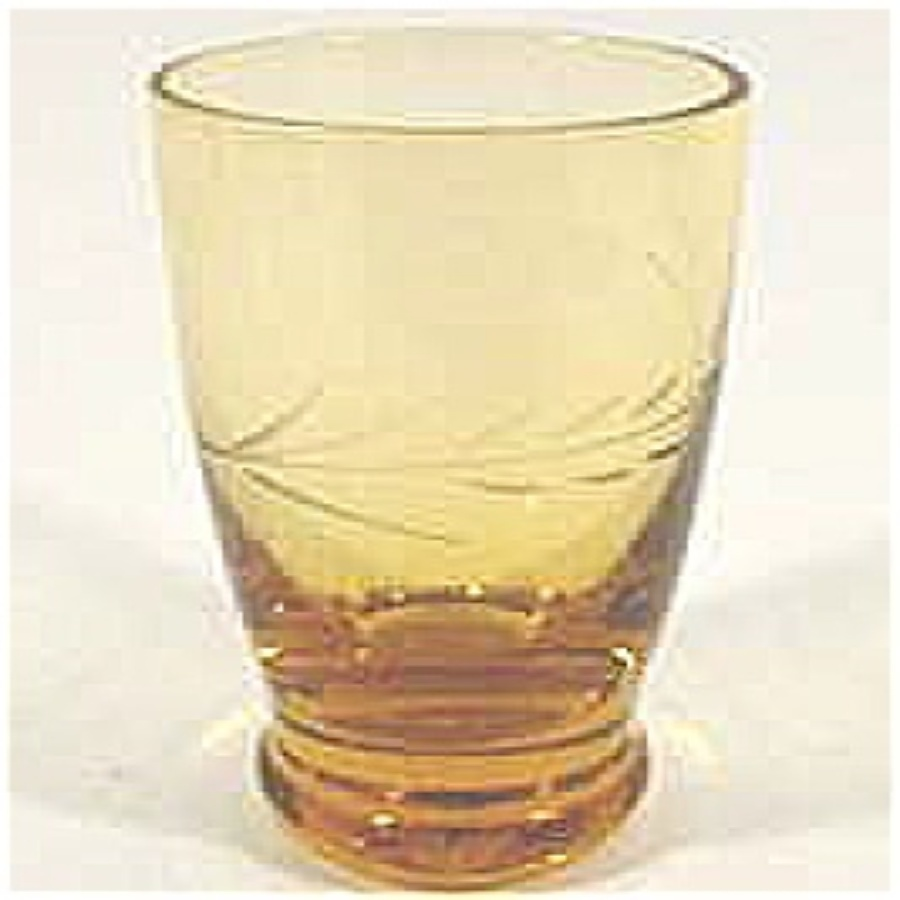whiskey: (170, 35, 754, 851)
